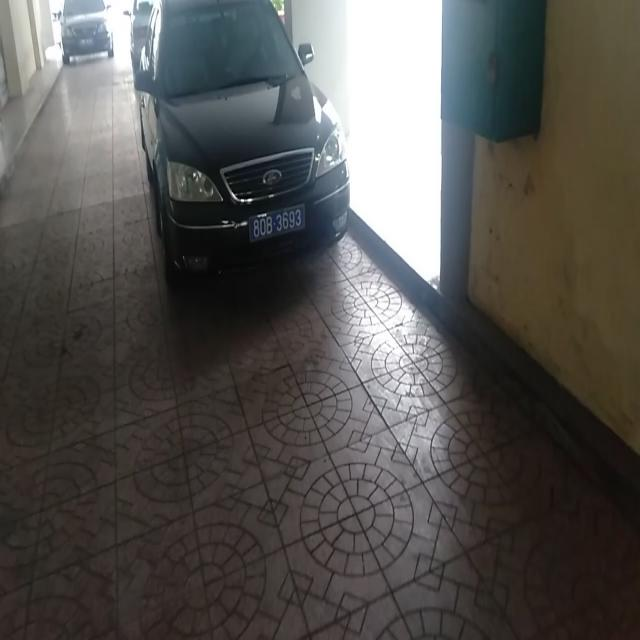bien_xanh: (246, 207, 308, 240)
